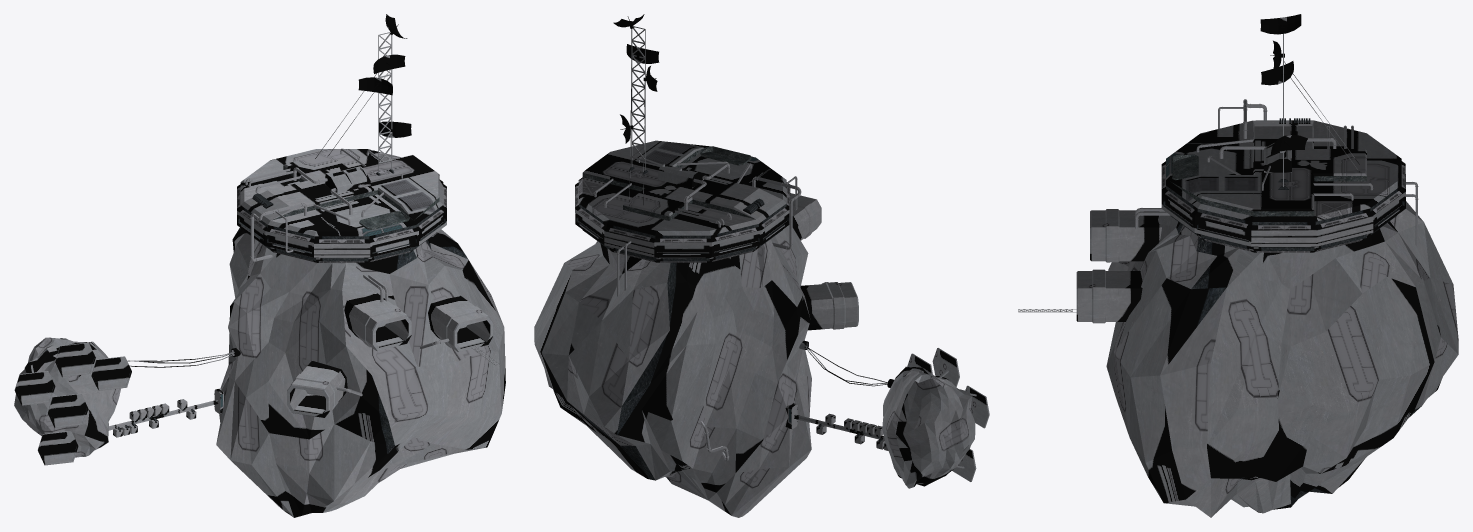
File: konostation.obj
The picture shows the model from 3 angles, left to right: view 1: azimuth 30°, elevation 25°; view 2: azimuth 150°, elevation 25°; view 3: azimuth 270°, elevation 25°; orthographic projection. The views are drawn at different scales.
Parts seen in each view (by area): view 1: d_station; view 2: d_station; view 3: d_station.
Part boxes in pixels (left/top/right/bottom): d_station: left=14, top=14, right=505, bottom=517; d_station: left=534, top=14, right=989, bottom=517; d_station: left=1018, top=14, right=1458, bottom=517.
Bounding box in the file's own units: 319 × 327 × 241.
